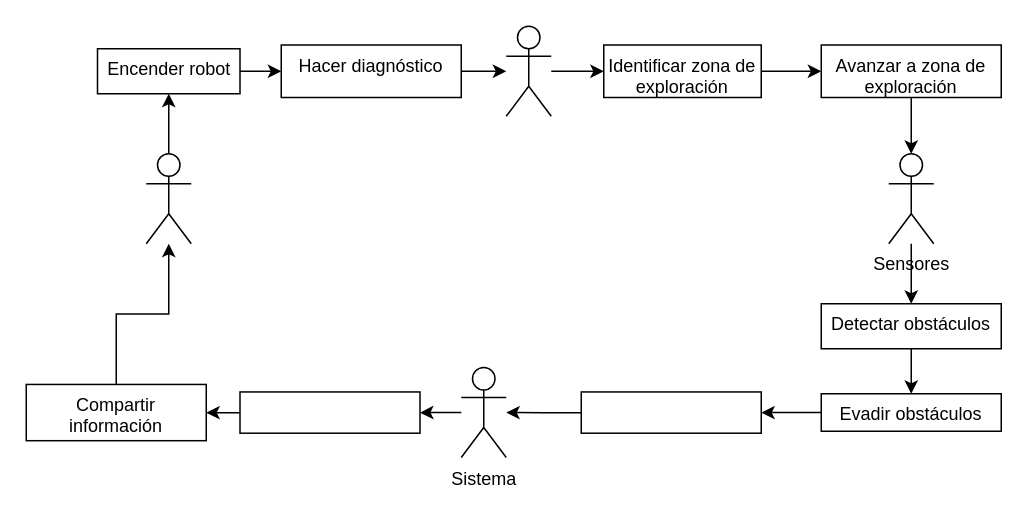
Some shapes in this 1028 by 515 pixel diagram are drawn without their labels. Each missing label, with the centre of its shape:
Escanear entorno: the point at 670,411
Guardar información: the point at 329,411
Robot: the point at 528,70
Usuario: the point at 168,198
